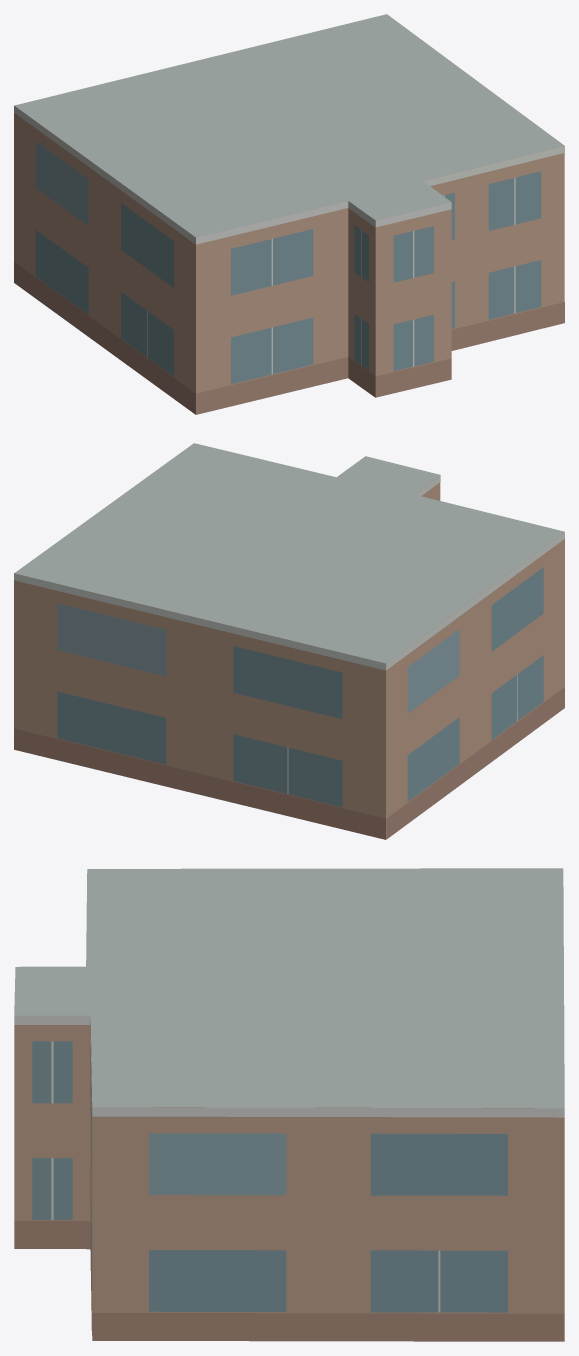
The model's file is survey-upis-32772548.glb.
3 renders of one model, top to bottom at view 1: azimuth 30°, elevation 25°; view 2: azimuth 150°, elevation 25°; view 3: azimuth 270°, elevation 25°, orthographic. The views are drawn at different scales.
Parts seen in each view (by area): view 1: survey-upis-32772548.tmp; view 2: survey-upis-32772548.tmp; view 3: survey-upis-32772548.tmp.
Part boxes in pixels (bbox=[...]): survey-upis-32772548.tmp: bbox=[14, 14, 564, 414]; survey-upis-32772548.tmp: bbox=[14, 443, 564, 839]; survey-upis-32772548.tmp: bbox=[14, 868, 564, 1341].
Bounding box in the file's own units: 13.46 × 6.1 × 13.05.
